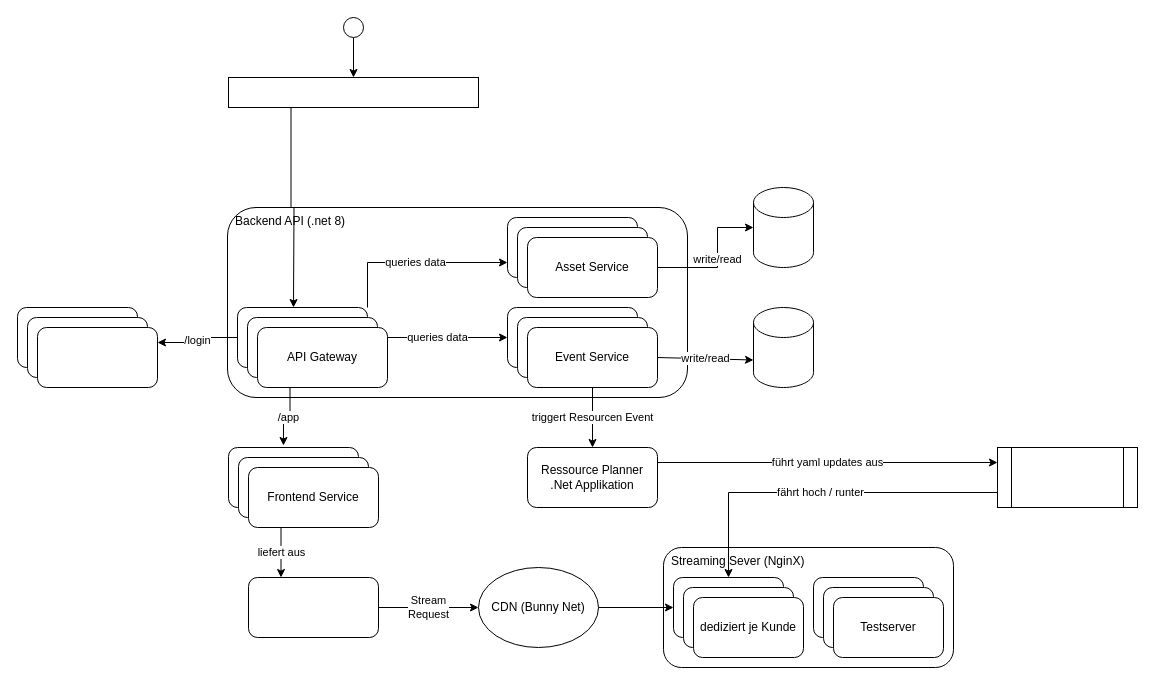
This 1155x685 diagram has some shape labels left out. Here are the shapes that lost their labels. From the top down, the centre of each, then its label:
the point at 353,92: LB (OVH)
the point at 783,227: Asset Storage S3
the point at 97,357: Authentifizierungs Server (KeyCloak)
the point at 783,347: Stream Database
the point at 1067,477: Cluster API
the point at 313,607: React Frontend
